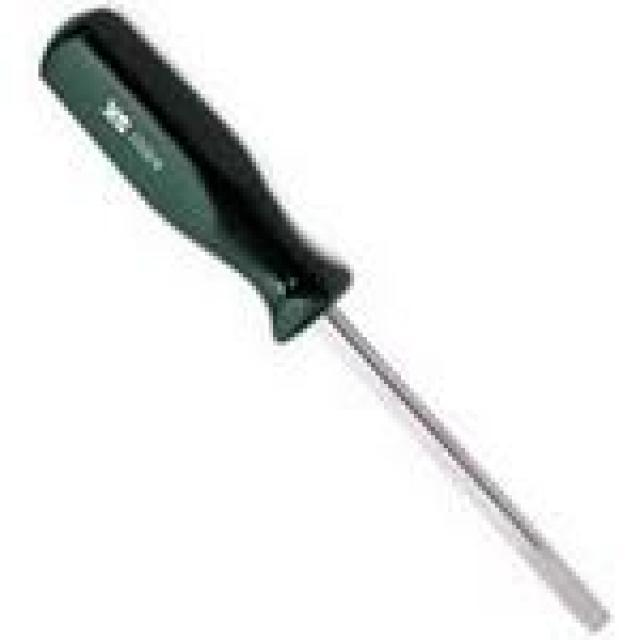screwdriver: (21, 0, 618, 630)
